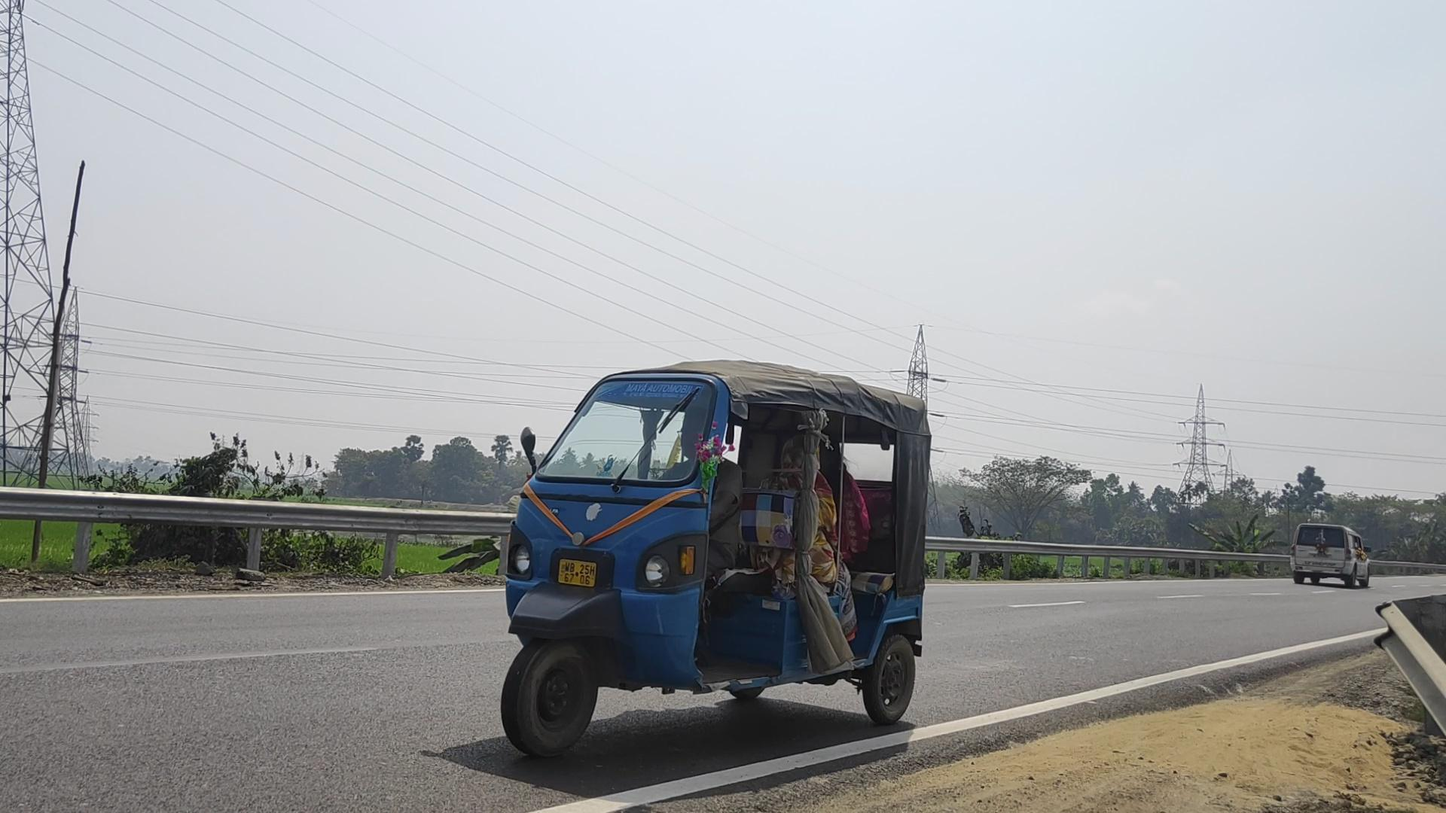Auto: (501, 358, 933, 759)
car: (1290, 523, 1371, 589)
